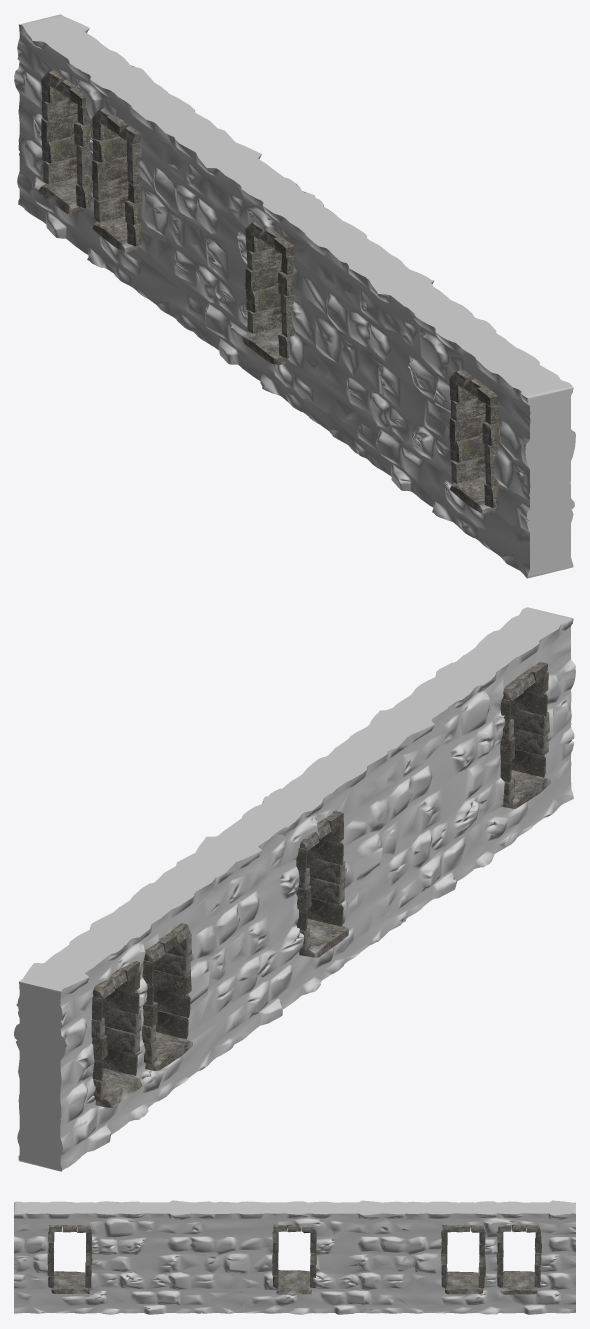
Rendered from SM_Front_Top.fbx.
The picture shows the model from 3 angles, top to bottom: view 1: azimuth 30°, elevation 25°; view 2: azimuth 150°, elevation 25°; view 3: azimuth 270°, elevation 25°; orthographic projection. The views are drawn at different scales.
Parts seen in each view (by area): view 1: SM_Front_Top_LOD0; view 2: SM_Front_Top_LOD0; view 3: SM_Front_Top_LOD0.
Part boxes in pixels (x1,y1,x2,y2): SM_Front_Top_LOD0: (14, 14, 575, 578); SM_Front_Top_LOD0: (14, 607, 575, 1171); SM_Front_Top_LOD0: (14, 1200, 575, 1314).
Bounding box in the file's own units: 86.11 × 1000 × 196.
